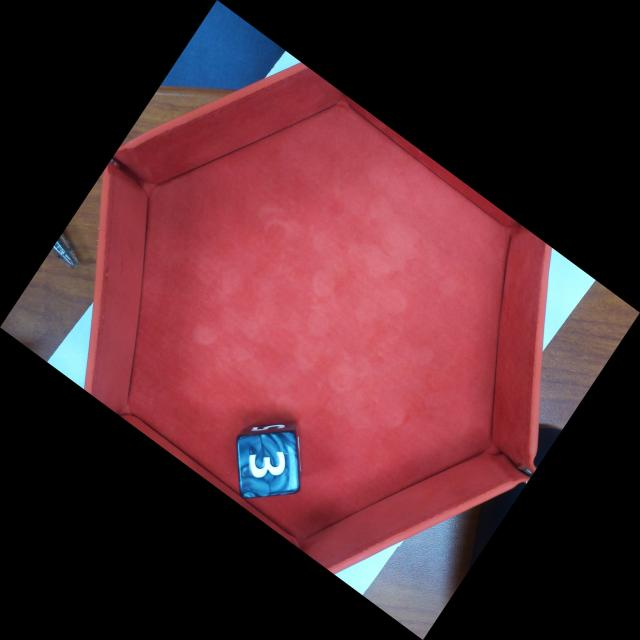dice: (235, 432, 300, 497)
